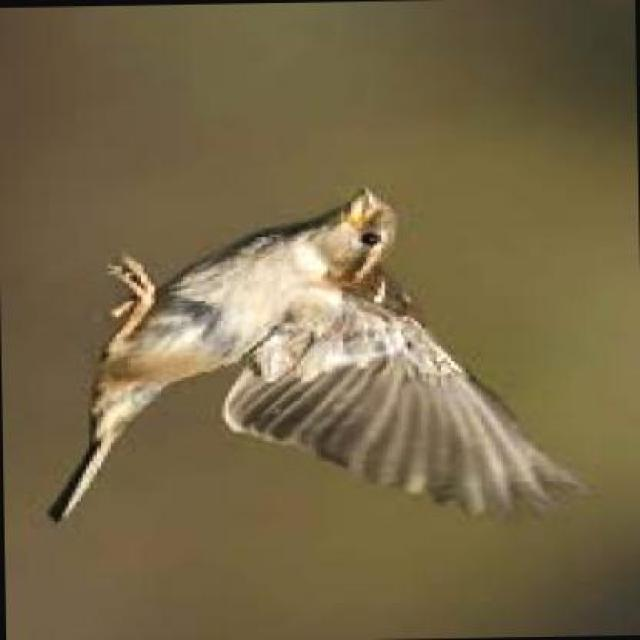Bird: (36, 181, 595, 532)
